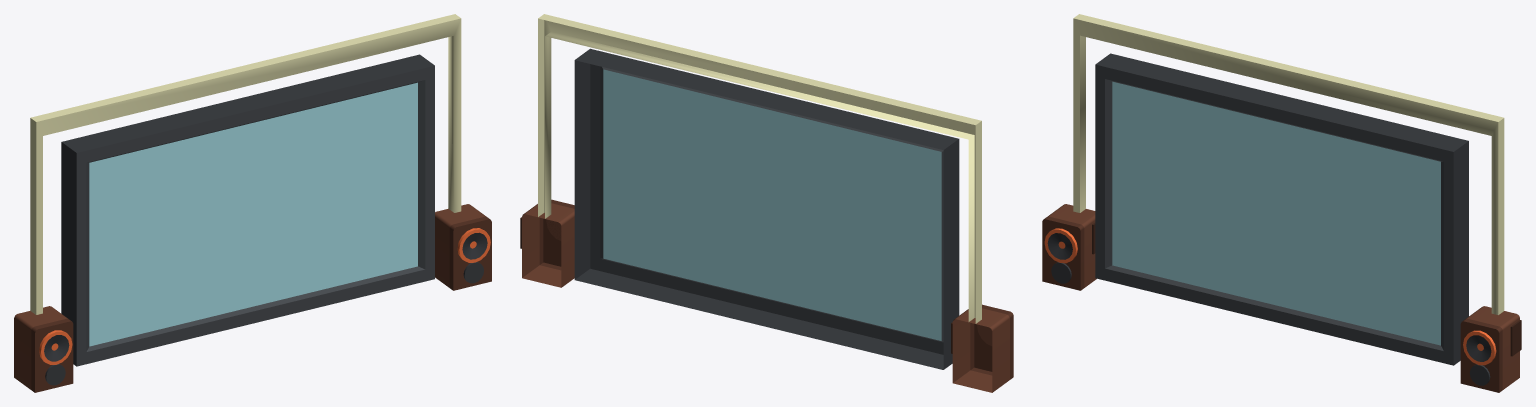
File: SM_GameArea_Screen_01.fbx
3 views of the same model, side by side, from view 1: azimuth 30°, elevation 25°; view 2: azimuth 150°, elevation 25°; view 3: azimuth 330°, elevation 25° (orthographic). The views are drawn at different scales.
Parts seen in each view (by area): view 1: SM_GameArea_Screen_01; view 2: SM_GameArea_Screen_01; view 3: SM_GameArea_Screen_01.
Boxes of the visible parts, x1,y1,x2,y2 form: SM_GameArea_Screen_01: (14, 14, 491, 392); SM_GameArea_Screen_01: (520, 14, 1013, 392); SM_GameArea_Screen_01: (1042, 14, 1521, 392).
Size of what is drawn, in the model's own units: 3580 by 1910 by 306.
